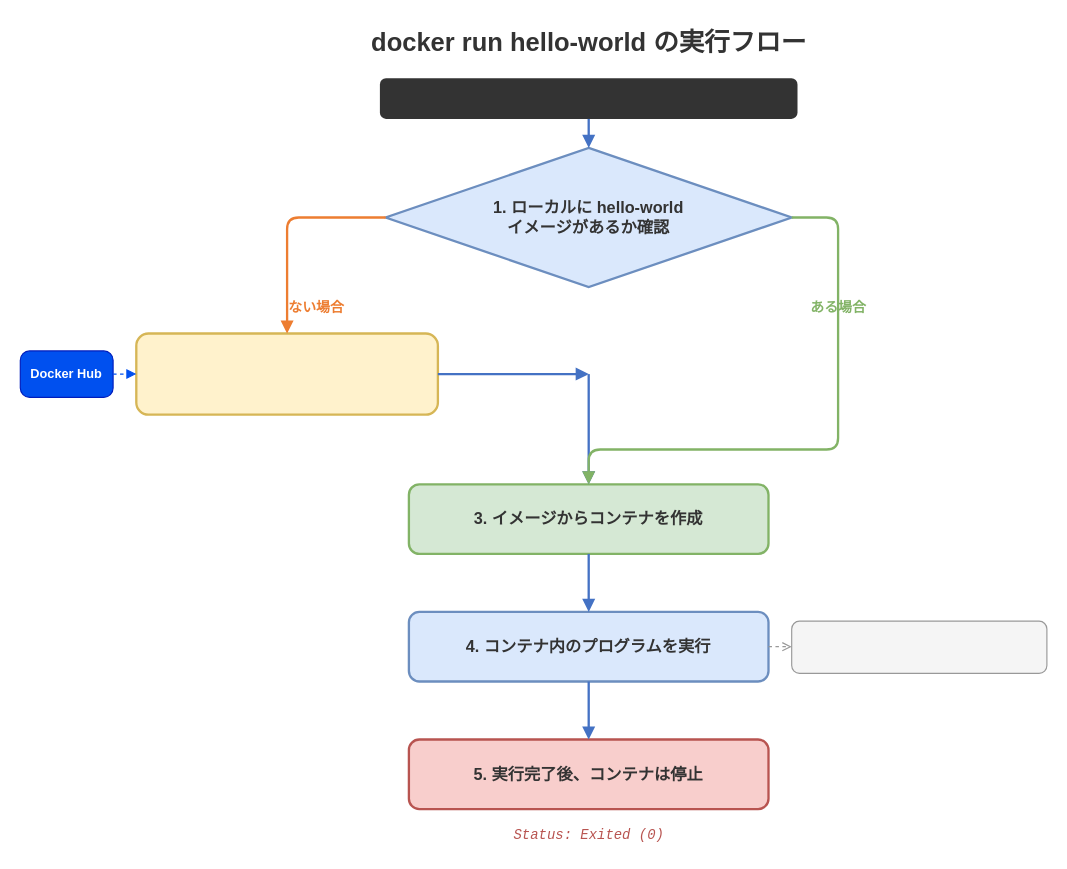
Some shapes in this 1067 by 869 pixel diagram are drawn without their labels. The shapes that lost their labels are listed below. From the top down, each one's centre as x and y in pixels, then its label:
the point at 588,98: $ docker run hello-world
the point at 286,373: 2. Docker Hub から イメージをダウンロード
the point at 919,646: Hello from Docker! This message shows that...
